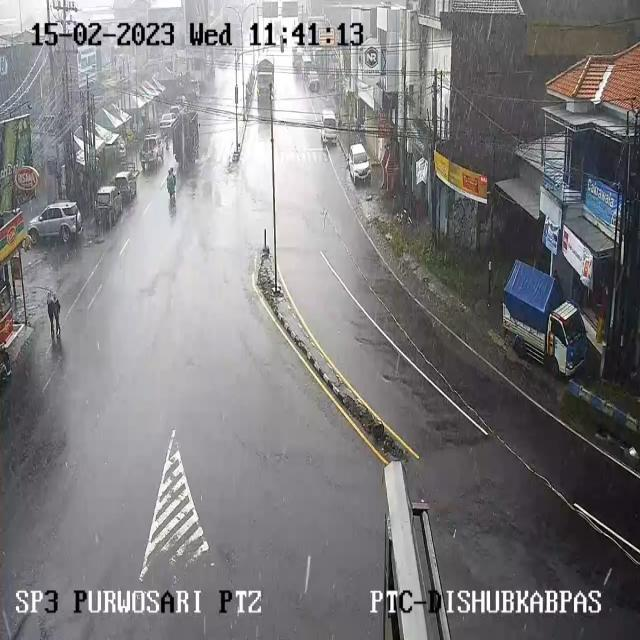Car: (27, 202, 81, 246), (94, 185, 125, 228), (349, 142, 371, 188), (140, 134, 164, 171), (113, 170, 138, 203), (320, 109, 338, 142), (306, 70, 321, 93), (159, 112, 178, 130), (115, 140, 127, 161), (188, 79, 202, 97), (302, 54, 312, 73), (170, 105, 182, 117), (176, 95, 187, 107)
Motorbike: (168, 165, 181, 205), (167, 168, 176, 200)
Truck: (501, 256, 587, 374), (173, 113, 201, 165), (255, 60, 278, 104)
